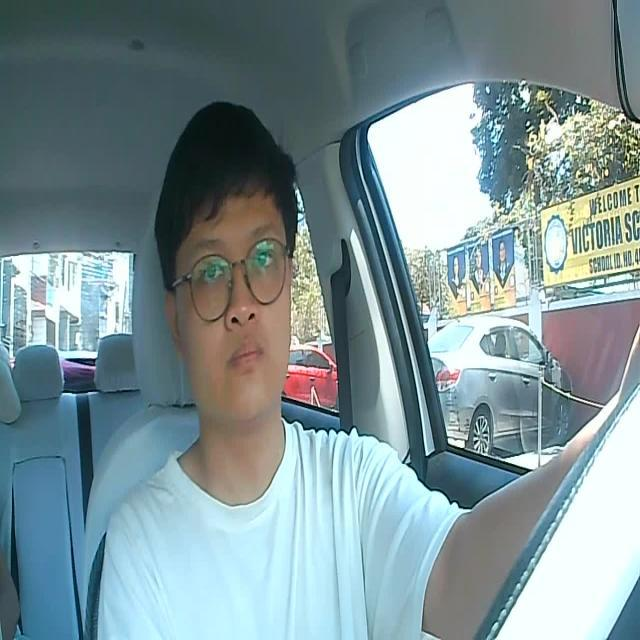Attentive: (157, 93, 306, 415)
Eye-Open: (197, 256, 229, 282), (252, 248, 276, 270)
Normal: (230, 338, 267, 373)
